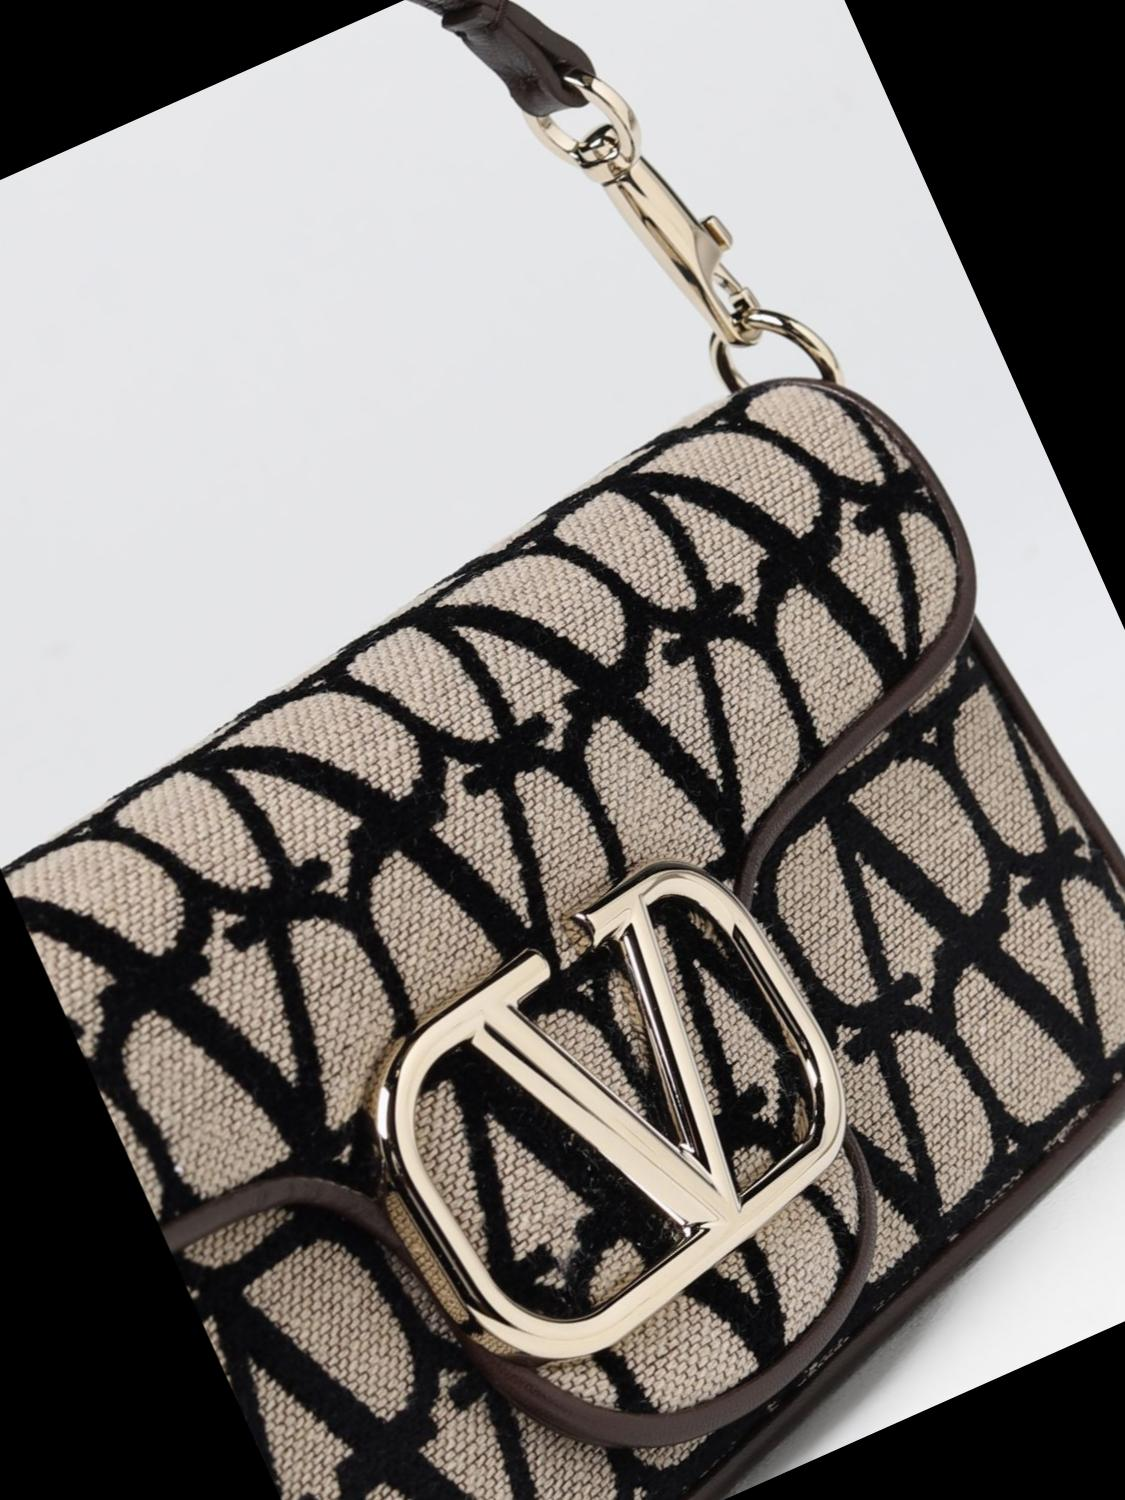VALENTINO: (313, 828, 904, 1402)
